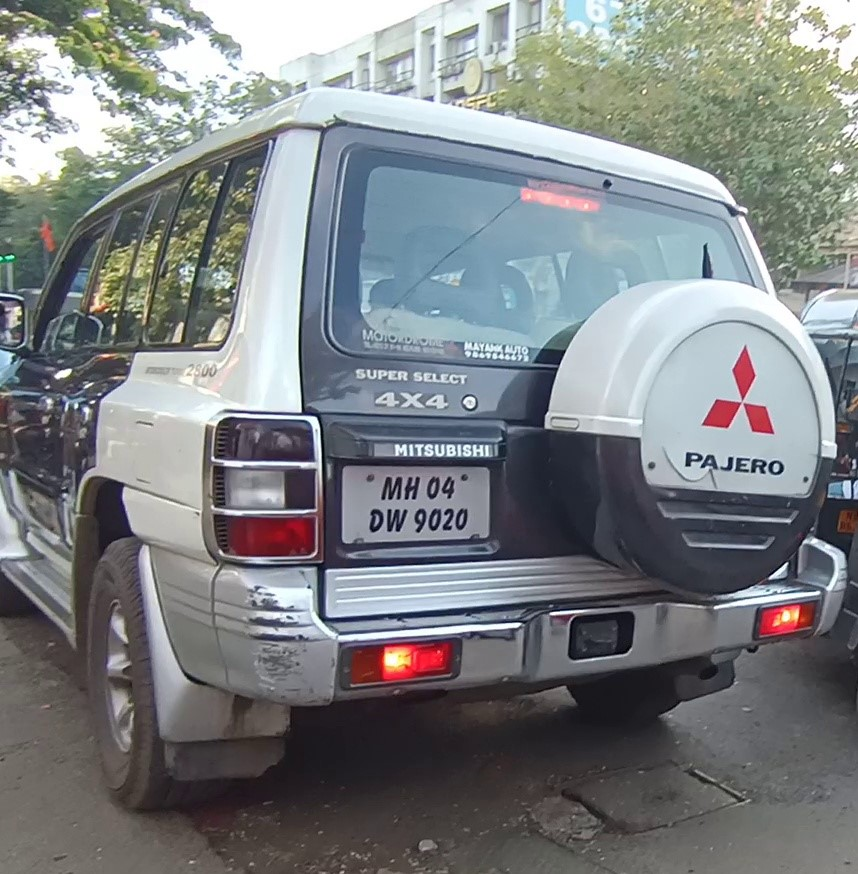MH04DW9020: (341, 463, 491, 541)
